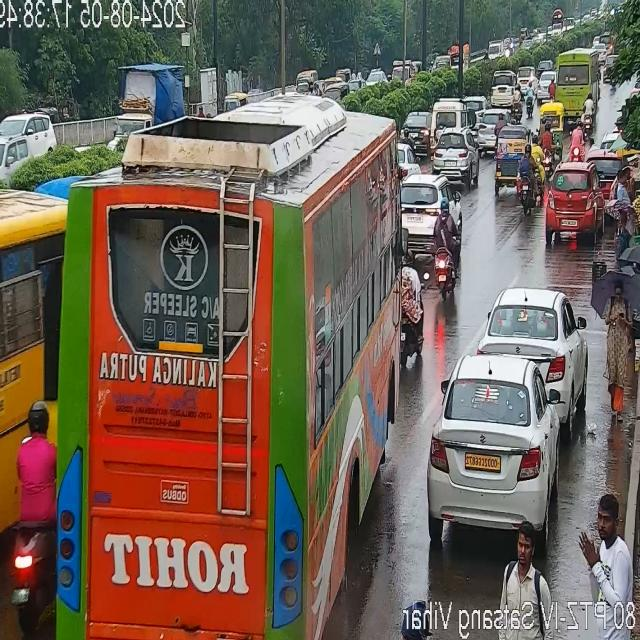2-wheelers: (0, 405, 58, 640), (400, 248, 428, 374), (434, 208, 462, 298), (518, 144, 540, 207), (568, 118, 586, 164), (542, 121, 552, 176), (532, 132, 542, 174), (584, 94, 594, 134), (514, 82, 522, 124), (526, 82, 534, 116)
auto: (494, 126, 530, 194), (537, 102, 563, 150)
bus: (61, 104, 398, 640), (0, 184, 62, 560), (556, 47, 599, 112)
car: (428, 354, 562, 532), (482, 286, 584, 398), (544, 168, 600, 235), (397, 175, 461, 231), (430, 142, 478, 178), (491, 70, 522, 108), (404, 108, 429, 154), (435, 100, 463, 130), (472, 123, 496, 153), (518, 66, 536, 94), (602, 54, 616, 82), (537, 58, 553, 74)
pedestrian: (587, 494, 636, 640), (492, 525, 554, 640), (607, 281, 629, 429), (607, 164, 635, 243), (634, 268, 640, 336)
truck: (101, 56, 180, 138)
